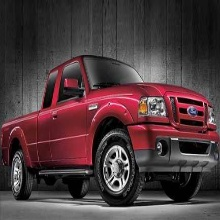no damage: (1, 55, 220, 208)
